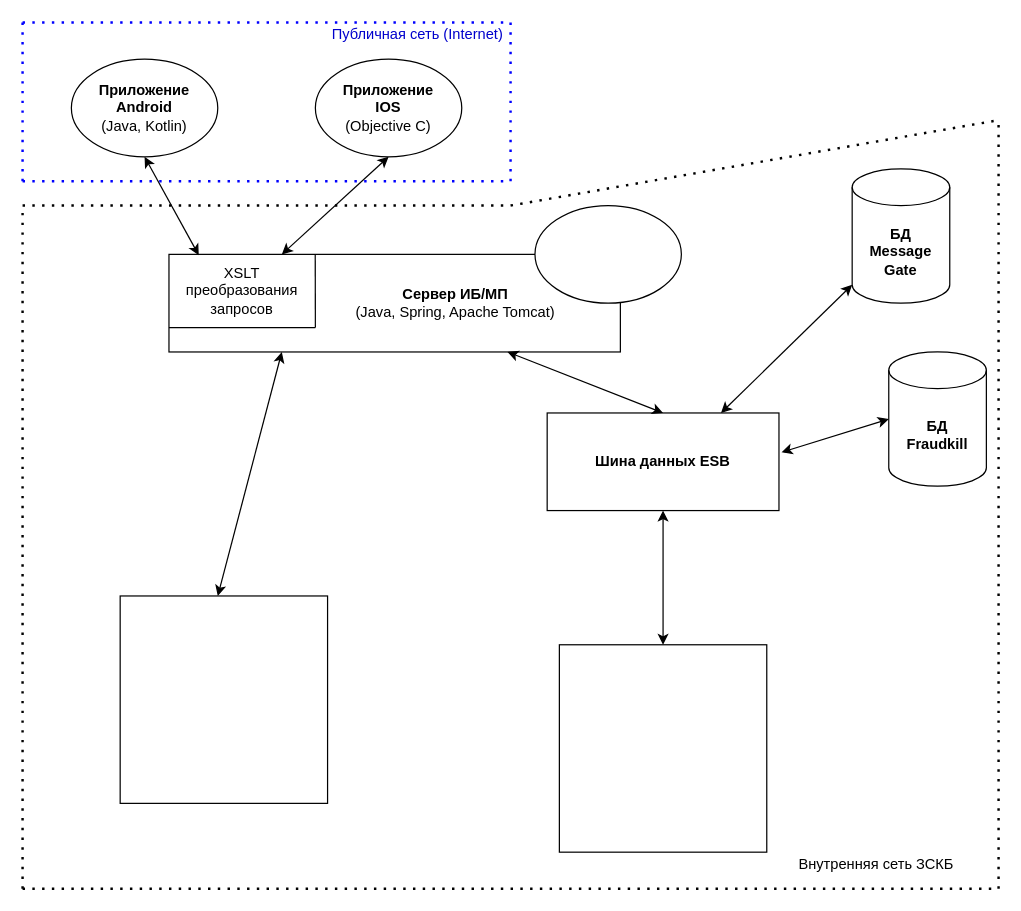
Some shapes in this 1021 by 911 pixel diagram are drawn without their labels. Each missing label, with the box of its shape:
TranzWare Online (TWO): (119, 595, 328, 803)
АБС Форпост (ФП): (558, 644, 767, 852)
ИБ веб-версия (HTML, CSS, JS, XSLT): (534, 204, 681, 303)
